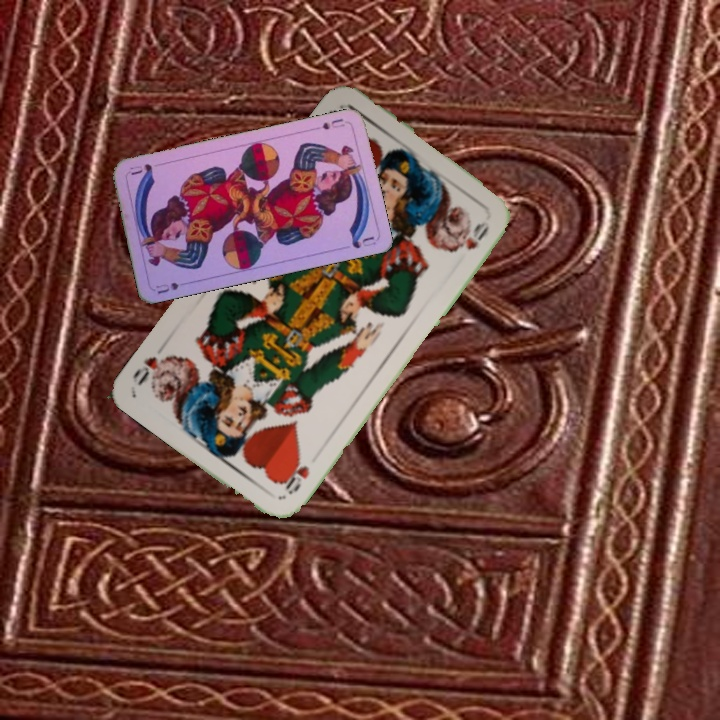HO: (277, 452, 313, 498)
SU: (310, 114, 347, 133), (152, 278, 181, 296)
